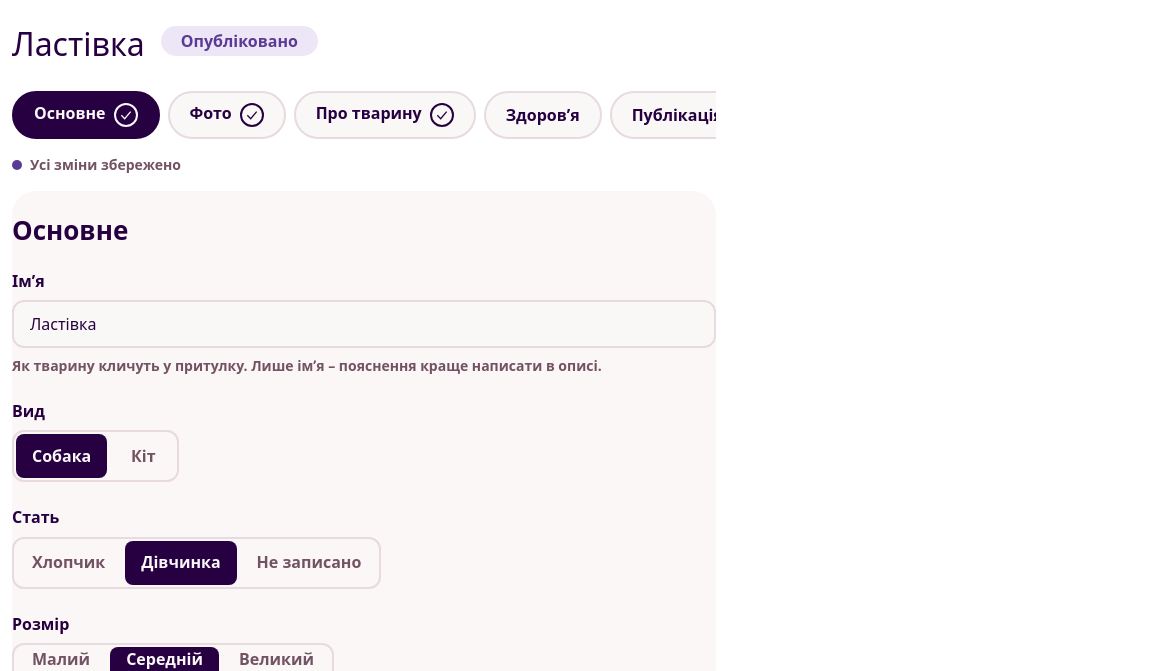
Test: a draft saves itself (T6) › «Тепер на картці» names the saved card's word: the saved sex, until a change is saved
Click the radio button labelled "Хлопчик" at (69, 562), box [32,551,105,573]
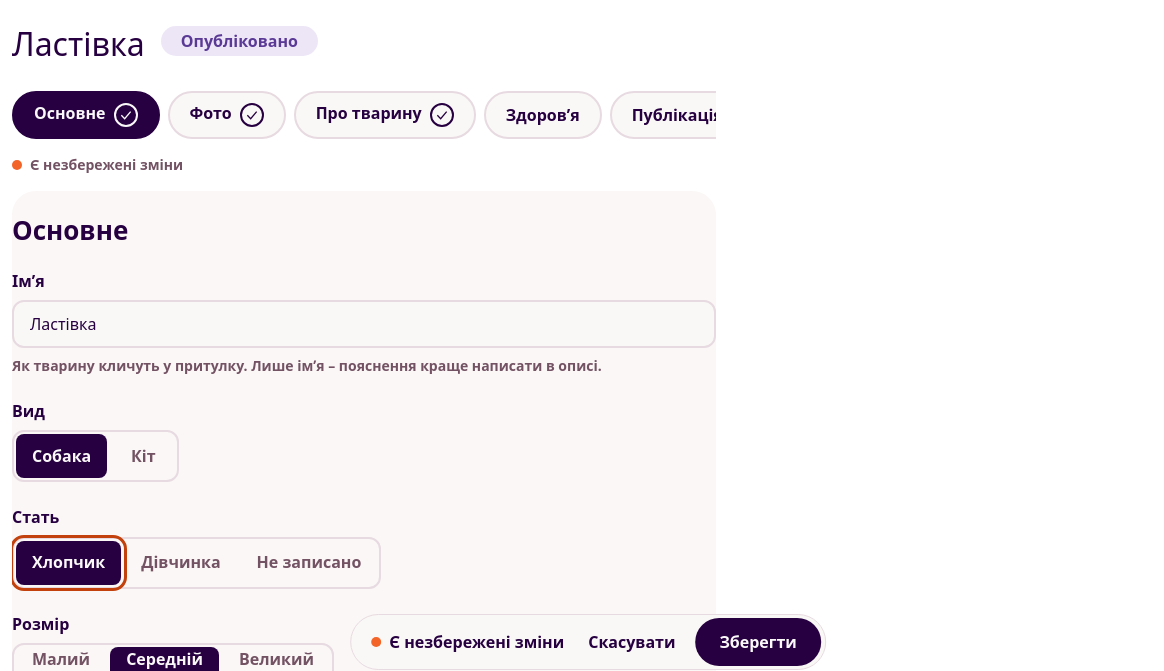
Click the button "Зберегти" at (758, 642), box [695,618,821,666]
(page scrolled)
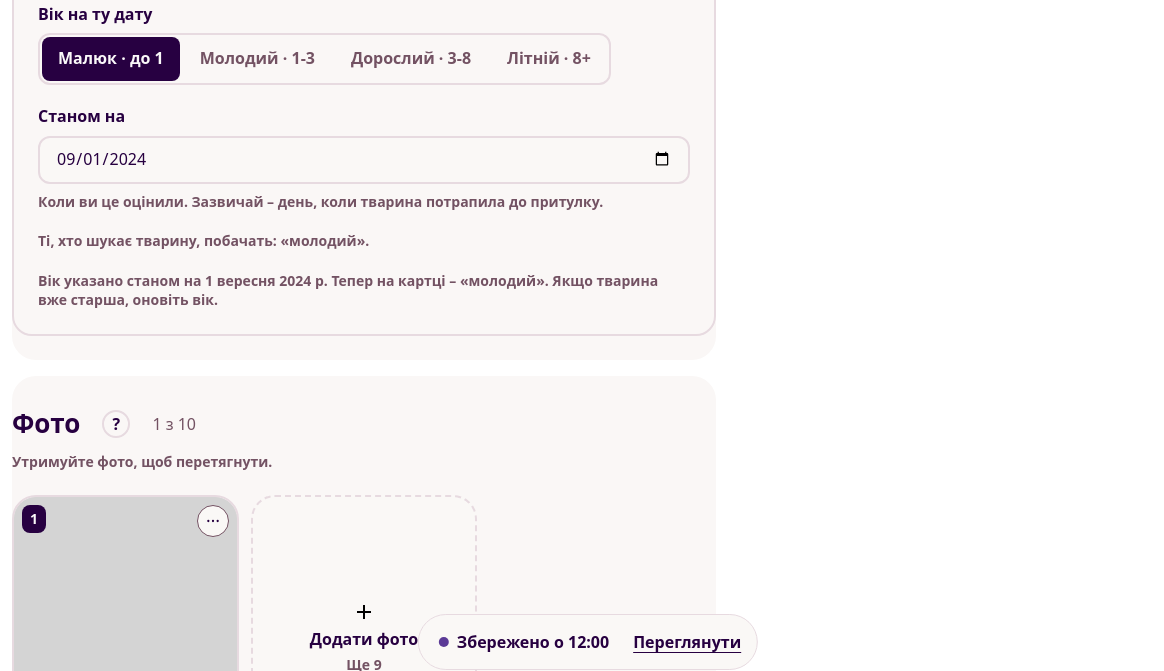
Check: the text "Вік указано станом на 1 вересня 2024 р. Тепер на картці – «молодий». Якщо тварина вже старша, оновіть вік." is shown, box [38,271,658,309]
